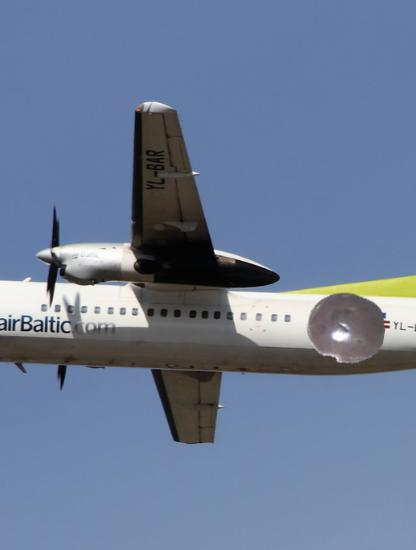Passion: (306, 288, 386, 368)
